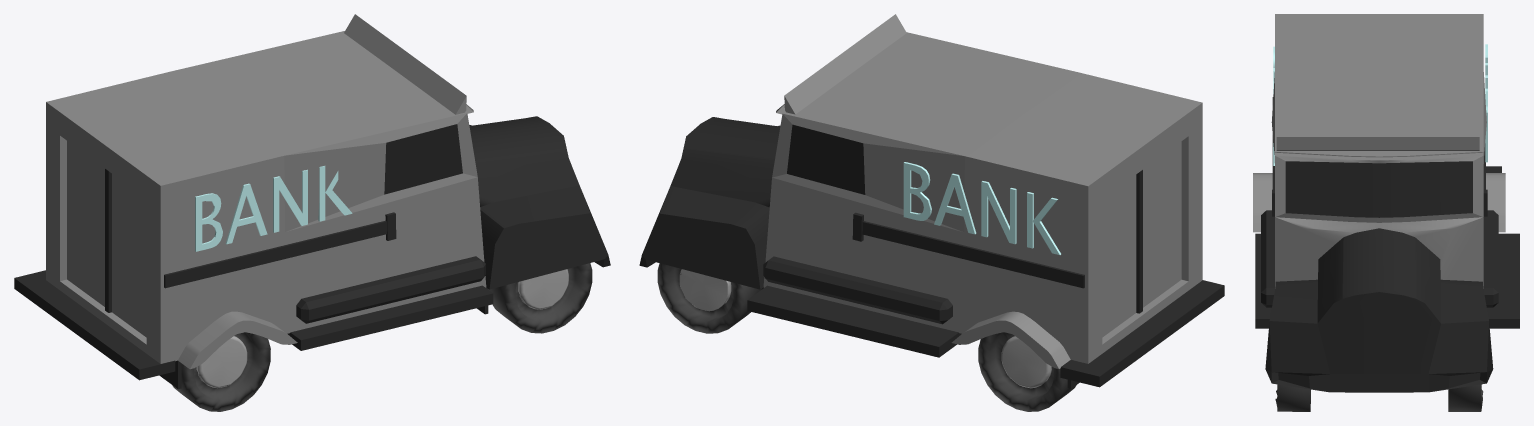
Rendered from ArmoredCar.fbx.
3 views of the same model, side by side, from view 1: azimuth 30°, elevation 25°; view 2: azimuth 150°, elevation 25°; view 3: azimuth 270°, elevation 25° (orthographic). The views are drawn at different scales.
Visible parts, largest first — view 1: pCube15, pCube23, pCylinder21, pCylinder22, pCube19, pCube16, pasted__typeMesh1, pCube26, pCube25, pCube29; view 2: pCube15, pCube16, pCube24, pCylinder20, pCube19, pCylinder19, pasted__typeMesh1, pCube27, pCube25, pCube29; view 3: pCube15, pCube16, pCube25, pCube24, pCube23, pCylinder19, pCylinder22, pasted__typeMesh1.
Part boxes in pixels (x1,y1,x2,y2): pCube15: (46, 31, 610, 369); pCube23: (296, 256, 485, 323); pCylinder21: (172, 332, 270, 411); pCylinder22: (488, 263, 592, 333); pCube19: (14, 270, 175, 380); pCube16: (287, 285, 493, 350); pasted__typeMesh1: (195, 166, 352, 251); pCube26: (164, 220, 386, 288); pCube25: (344, 14, 466, 114); pCube29: (105, 169, 111, 312); pCube15: (639, 32, 1202, 368); pCube16: (747, 285, 961, 357); pCube24: (763, 256, 952, 324); pCylinder20: (978, 332, 1076, 411); pCube19: (1060, 280, 1224, 387); pCylinder19: (657, 263, 761, 333); pasted__typeMesh1: (903, 162, 1060, 254); pCube27: (862, 221, 1084, 288); pCube25: (784, 14, 906, 114); pCube29: (1136, 170, 1142, 313); pCube15: (1253, 14, 1505, 392); pCube16: (1255, 233, 1519, 328); pCube25: (1276, 137, 1479, 150); pCube24: (1483, 210, 1498, 307); pCube23: (1261, 210, 1274, 307); pCylinder19: (1448, 384, 1483, 411); pCylinder22: (1275, 384, 1310, 411); pasted__typeMesh1: (1485, 44, 1487, 162).
Bounding box in the file's own units: 74.68 × 38.61 × 39.94.
